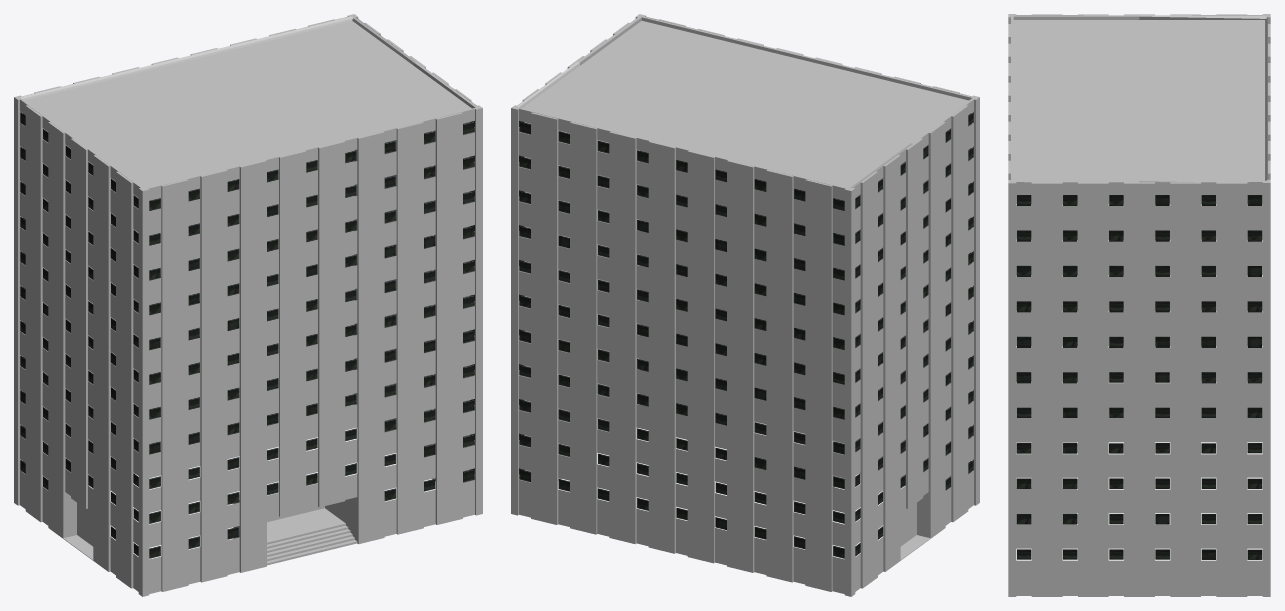
The picture shows the model from 3 angles, left to right: view 1: azimuth 30°, elevation 25°; view 2: azimuth 150°, elevation 25°; view 3: azimuth 270°, elevation 25°; orthographic projection.
Visible parts, largest first — view 1: BC-016; view 2: BC-016; view 3: BC-016.
Part boxes in pixels (x1,y1,x2,y2): BC-016: (14, 14, 482, 596); BC-016: (511, 14, 979, 596); BC-016: (1008, 14, 1270, 596).
Size of what is drawn, in the model's own units: 30.73 by 35.03 by 20.1.
